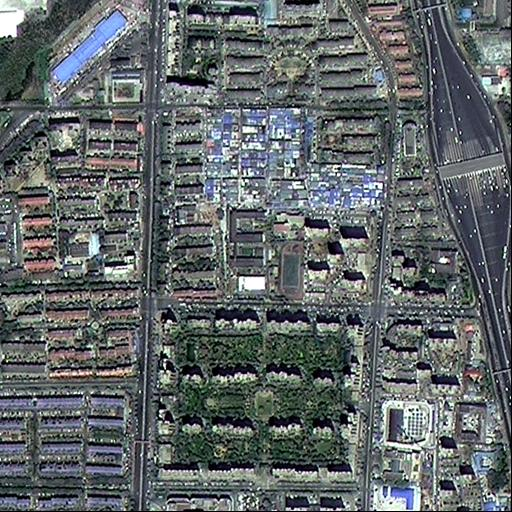school: (226, 205, 306, 299)
